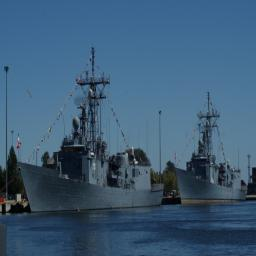Fragata: (18, 41, 166, 216), (172, 85, 250, 208)
